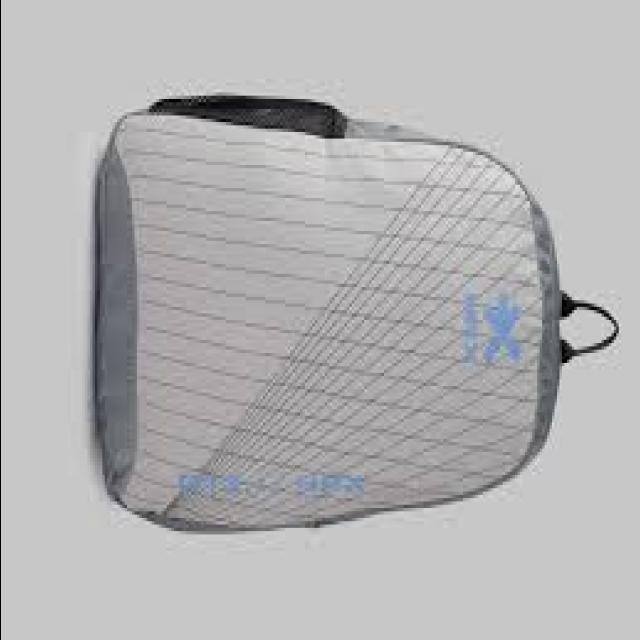backpack: (95, 94, 621, 536)
